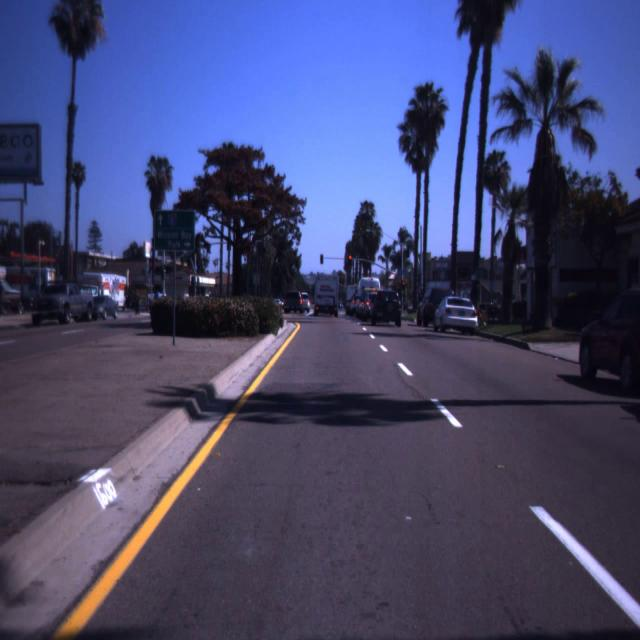stop: (347, 254, 353, 266), (401, 280, 406, 292)
stop traffic light: (347, 254, 353, 266), (401, 280, 406, 292)
